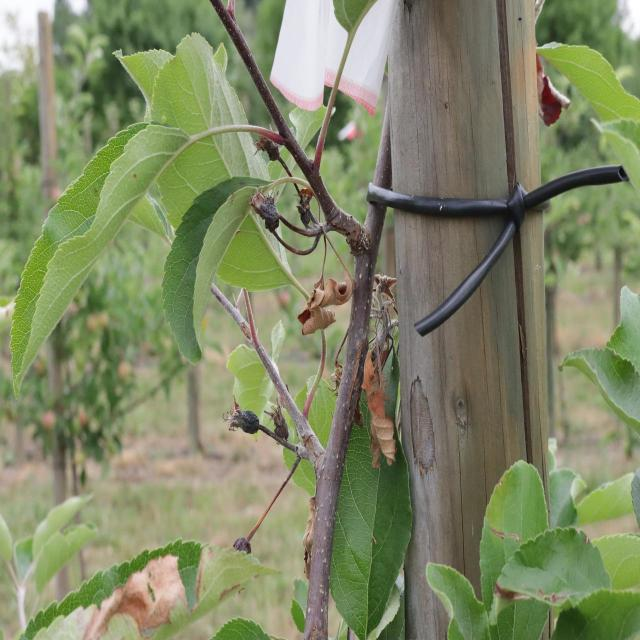-FireBlight-: (367, 297, 402, 456), (100, 572, 198, 621), (530, 52, 562, 128), (304, 272, 342, 332)
